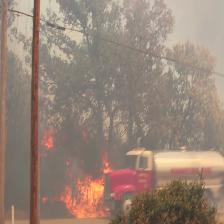fire: (30, 124, 131, 220)
nofire: (103, 141, 168, 217)
